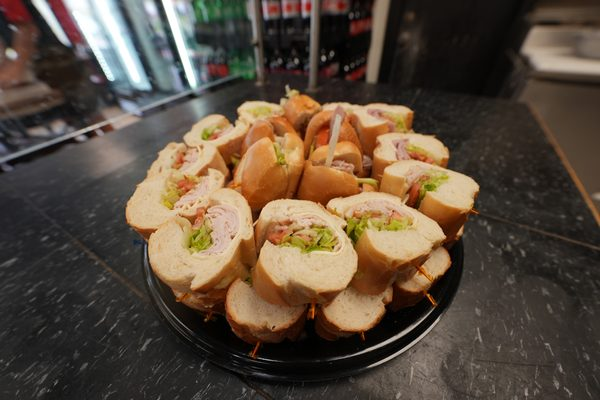soup: (316, 189, 451, 339), (252, 198, 359, 307), (378, 158, 480, 249), (372, 130, 450, 180)
sushi: (127, 81, 497, 389)
